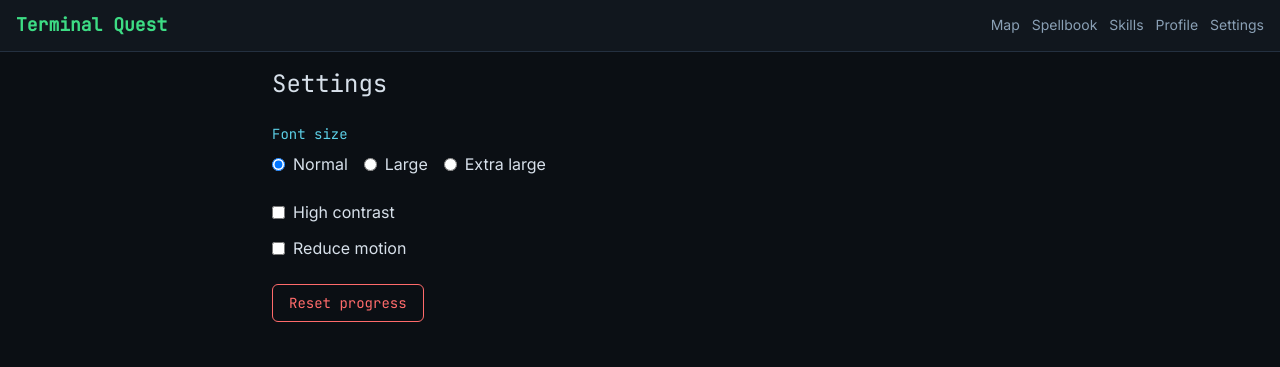
Test case: SettingsPage › shows an error when reset fails
The width and height of the screenshot is (1280, 367).
Click the button "Reset progress" at point(348, 303), box [272,284,424,322]
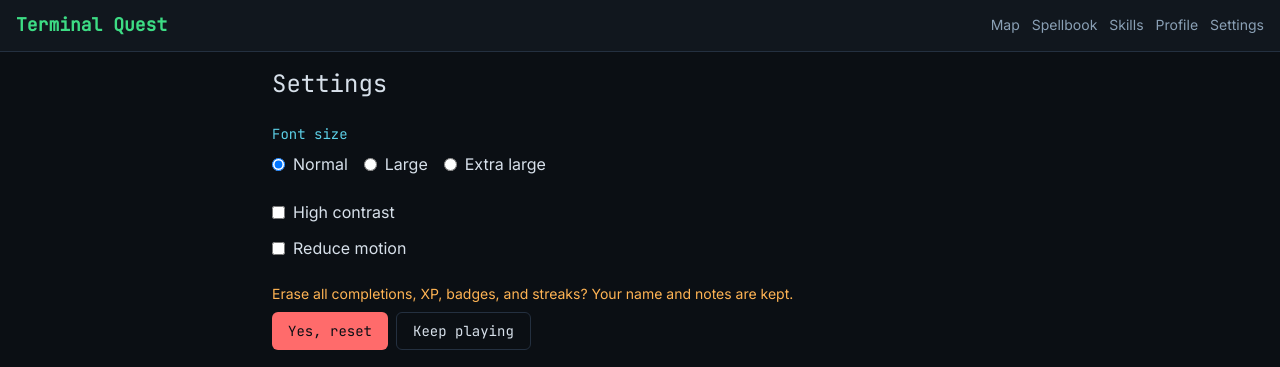
Click the button "Yes, reset" at point(330, 331), box [272,312,388,350]
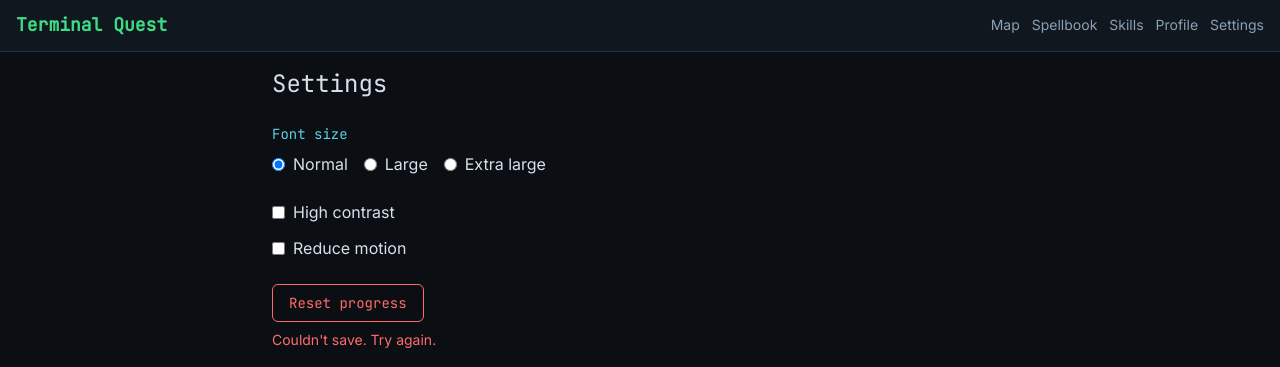
Now the text "Couldn't save. Try again." is shown, box [272,331,436,348]
